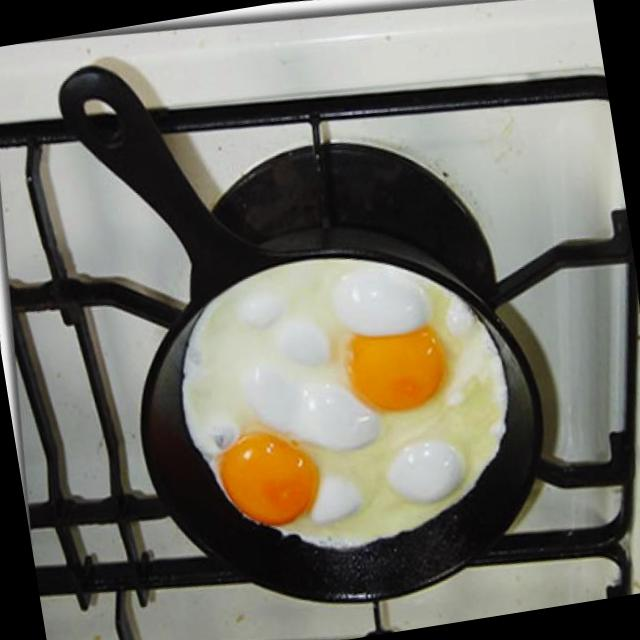Egg: (137, 242, 380, 574), (296, 229, 530, 565)
